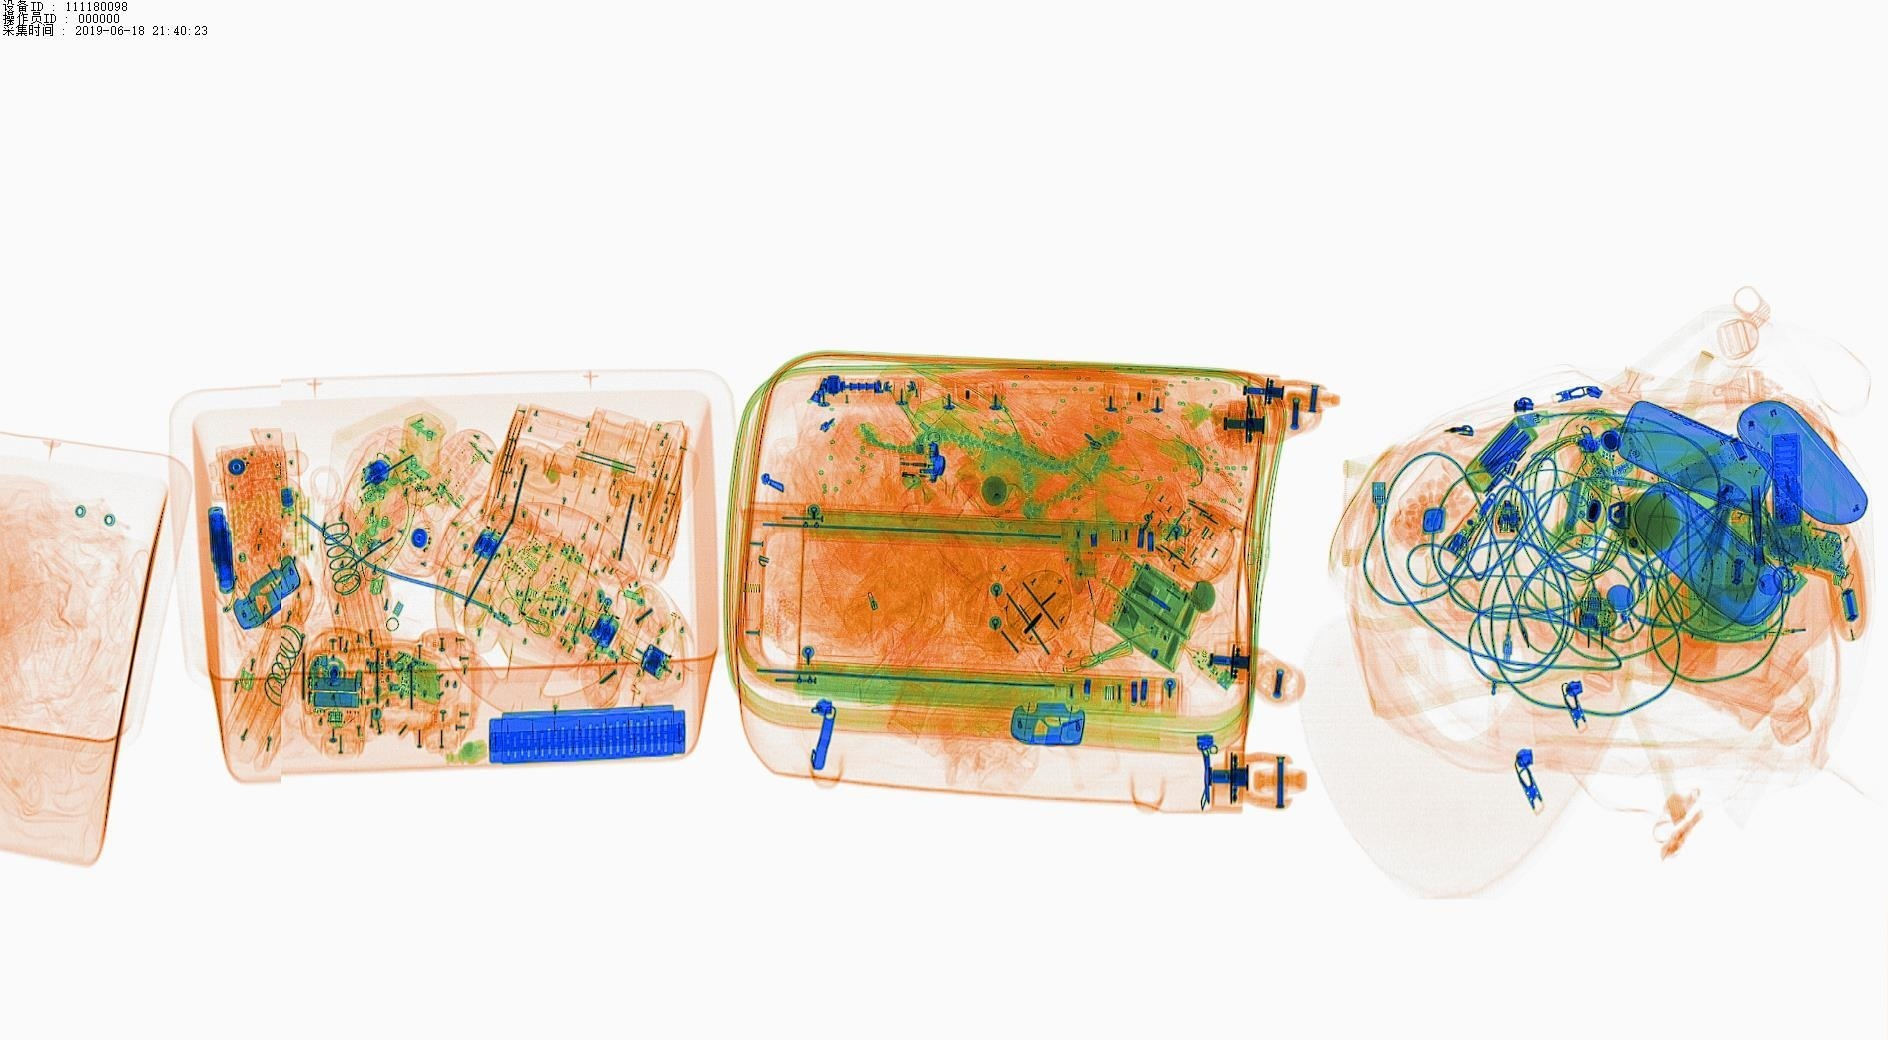NonmetallicFire: (897, 430, 952, 500)
